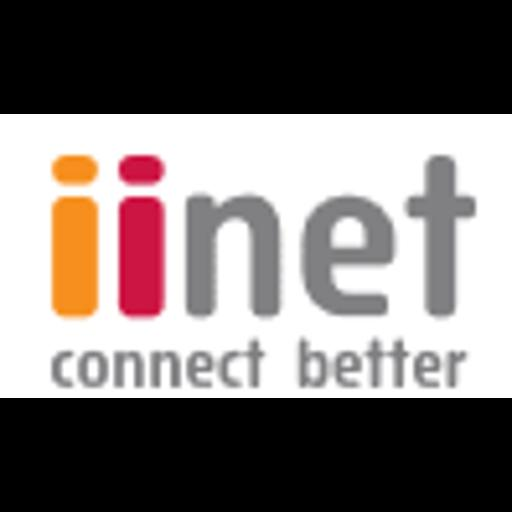iiNet Limited: (0, 114, 512, 398)
